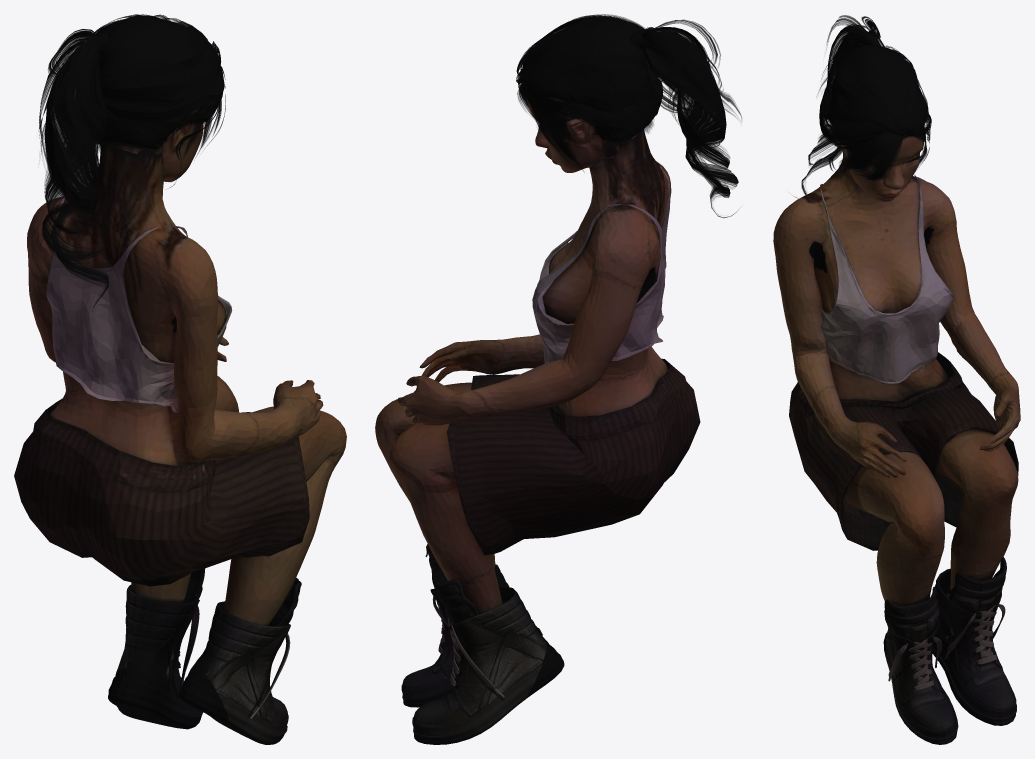
The model's file is ME_MOBILE.glb.
The picture shows the model from 3 angles, left to right: view 1: azimuth 30°, elevation 25°; view 2: azimuth 150°, elevation 25°; view 3: azimuth 270°, elevation 25°; orthographic projection. The views are drawn at different scales.
Parts seen in each view (by area): view 1: Tube.001; view 2: Tube.001; view 3: Tube.001.
Part boxes in pixels (x1,y1,x2,y2): Tube.001: (14, 14, 346, 744); Tube.001: (375, 14, 741, 744); Tube.001: (773, 15, 1020, 744).
Size of the model in its own units: 0.5495 by 1.18 by 0.4195.
9 materials, 8 textured.
